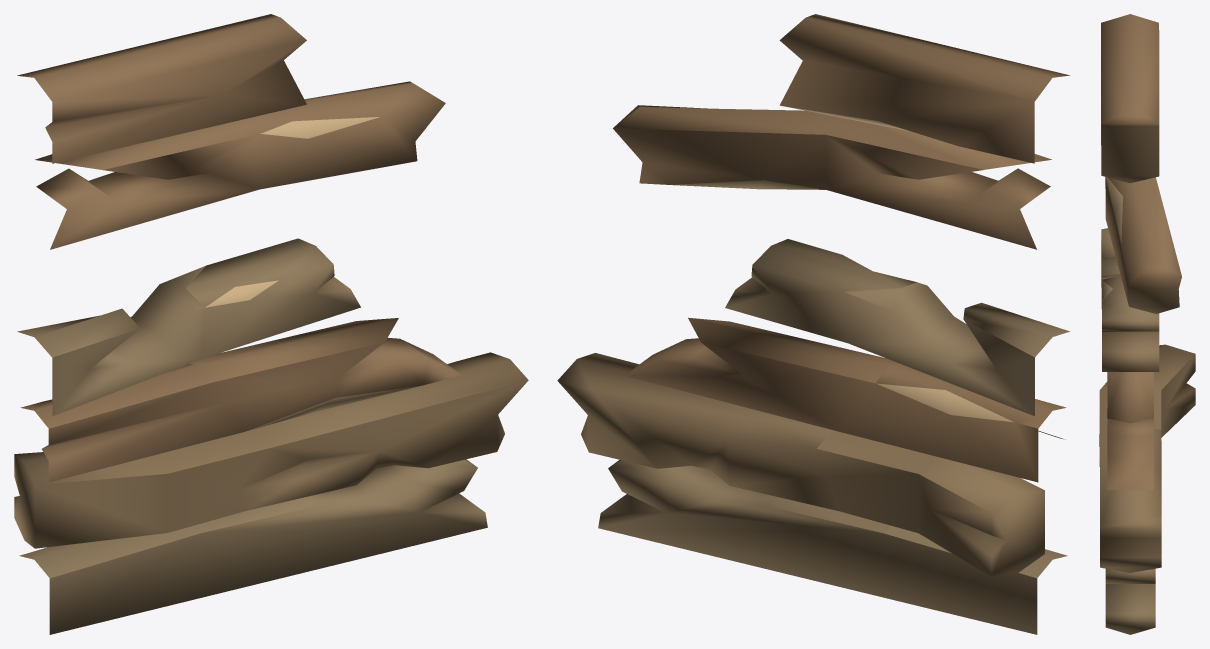
File: rpgpp_av_wall_01_3x3_f.gltf
3 renders of one model, left to right at view 1: azimuth 30°, elevation 25°; view 2: azimuth 150°, elevation 25°; view 3: azimuth 270°, elevation 25°, orthographic. The views are drawn at different scales.
Visible parts, largest first — view 1: rpgpp_av_wall_01_3x3_f; view 2: rpgpp_av_wall_01_3x3_f; view 3: rpgpp_av_wall_01_3x3_f.
Part boxes in pixels (x1,y1,x2,y2): rpgpp_av_wall_01_3x3_f: (14, 14, 528, 634); rpgpp_av_wall_01_3x3_f: (557, 14, 1070, 634); rpgpp_av_wall_01_3x3_f: (1099, 14, 1195, 634).
Bounding box in the file's own units: 0.0269 × 0.03 × 0.00583.
Materials: 1 (1 with a texture image).
